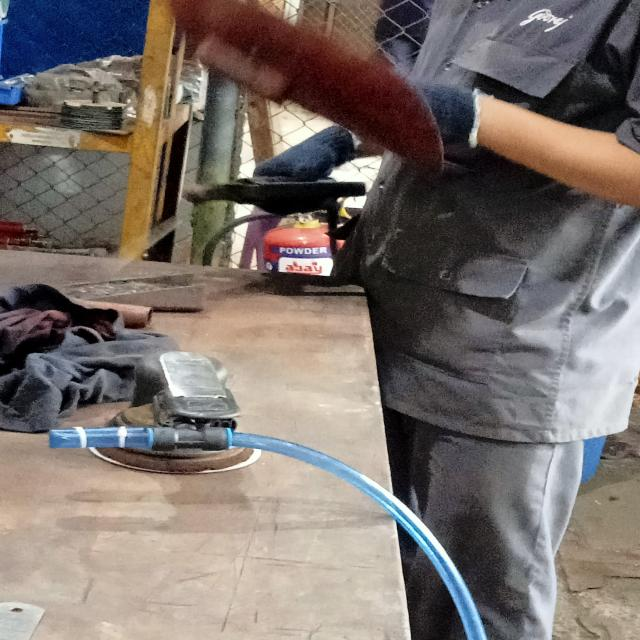Gloves-Detection: (264, 142, 356, 178)
